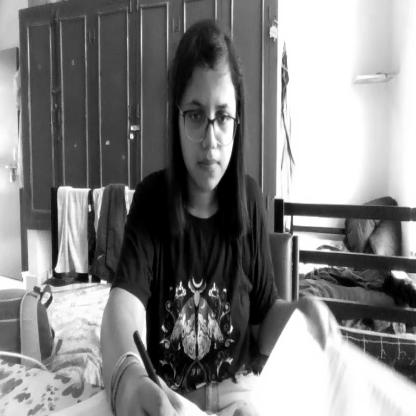Normal: (172, 26, 241, 198)
